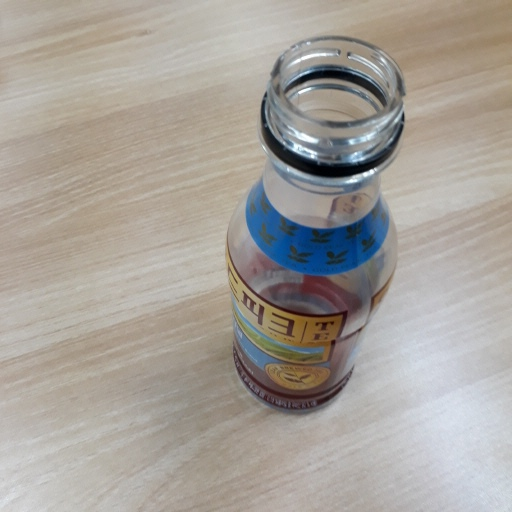Plastic_0: (221, 33, 406, 422)
